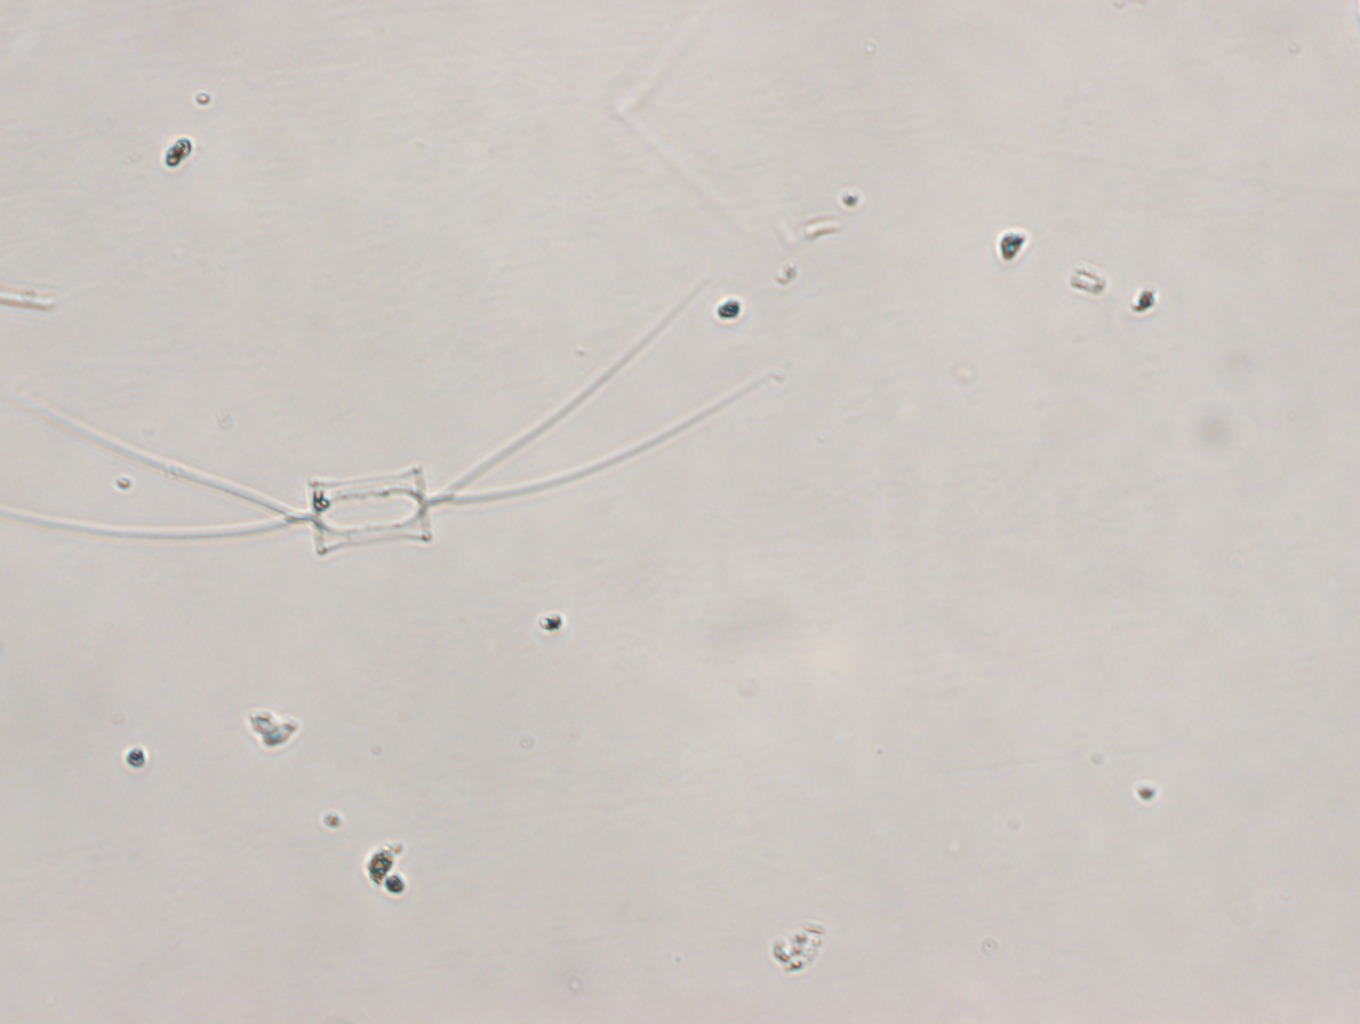chaetoceros: (1, 278, 777, 561)
